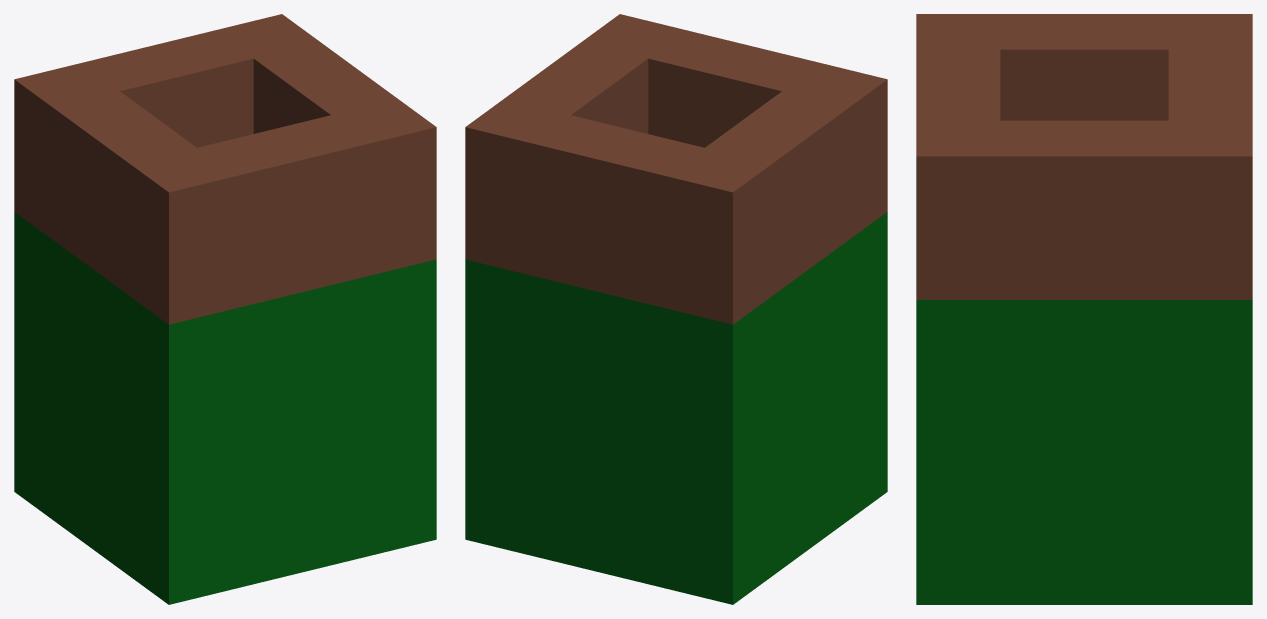
The model's file is ClosedEdge.fbx.
3 renders of one model, left to right at view 1: azimuth 30°, elevation 25°; view 2: azimuth 150°, elevation 25°; view 3: azimuth 270°, elevation 25°, orthographic. The views are drawn at different scales.
Parts seen in each view (by area): view 1: Cube.002; view 2: Cube.002; view 3: Cube.002.
Part boxes in pixels (x1,y1,x2,y2): Cube.002: (14, 14, 436, 604); Cube.002: (465, 14, 887, 604); Cube.002: (916, 14, 1252, 604).
Size of the model in its own units: 200 by 294 by 200.
